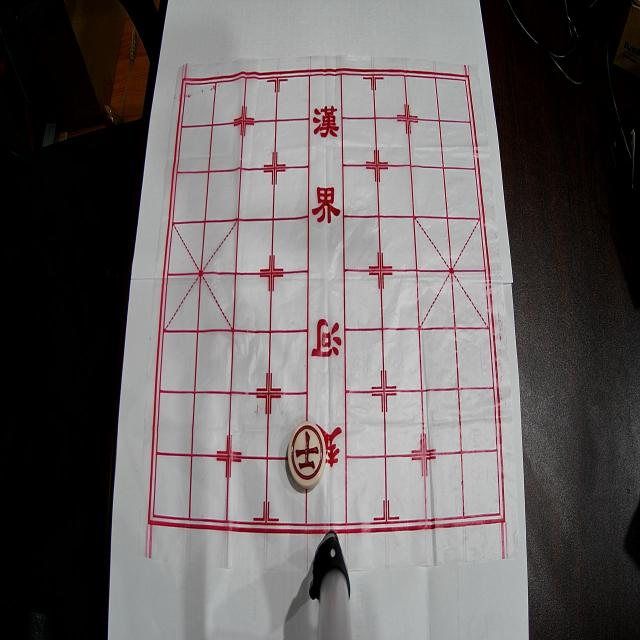red-guard: (288, 422, 326, 488)
